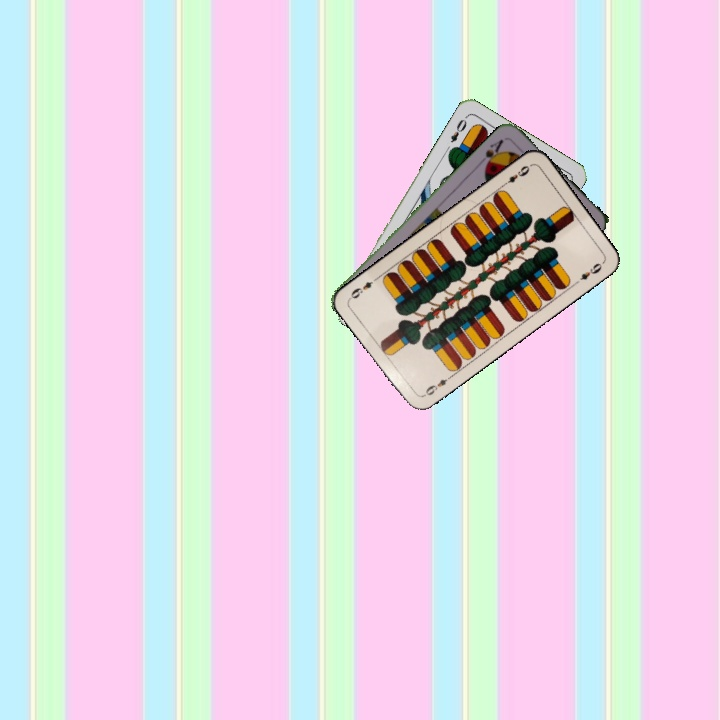E9: (419, 371, 454, 400), (498, 161, 532, 189)
EO: (446, 115, 470, 145)
SA: (475, 135, 506, 171)
